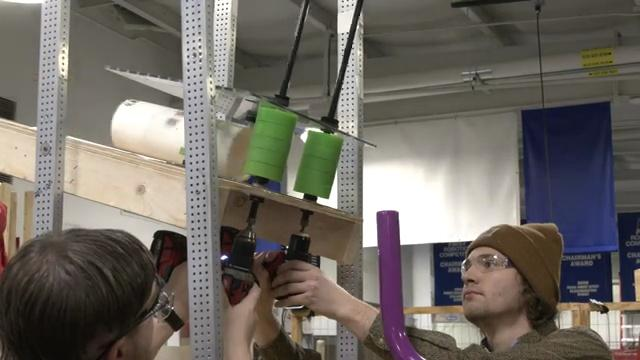CORAL: (111, 98, 251, 176)
